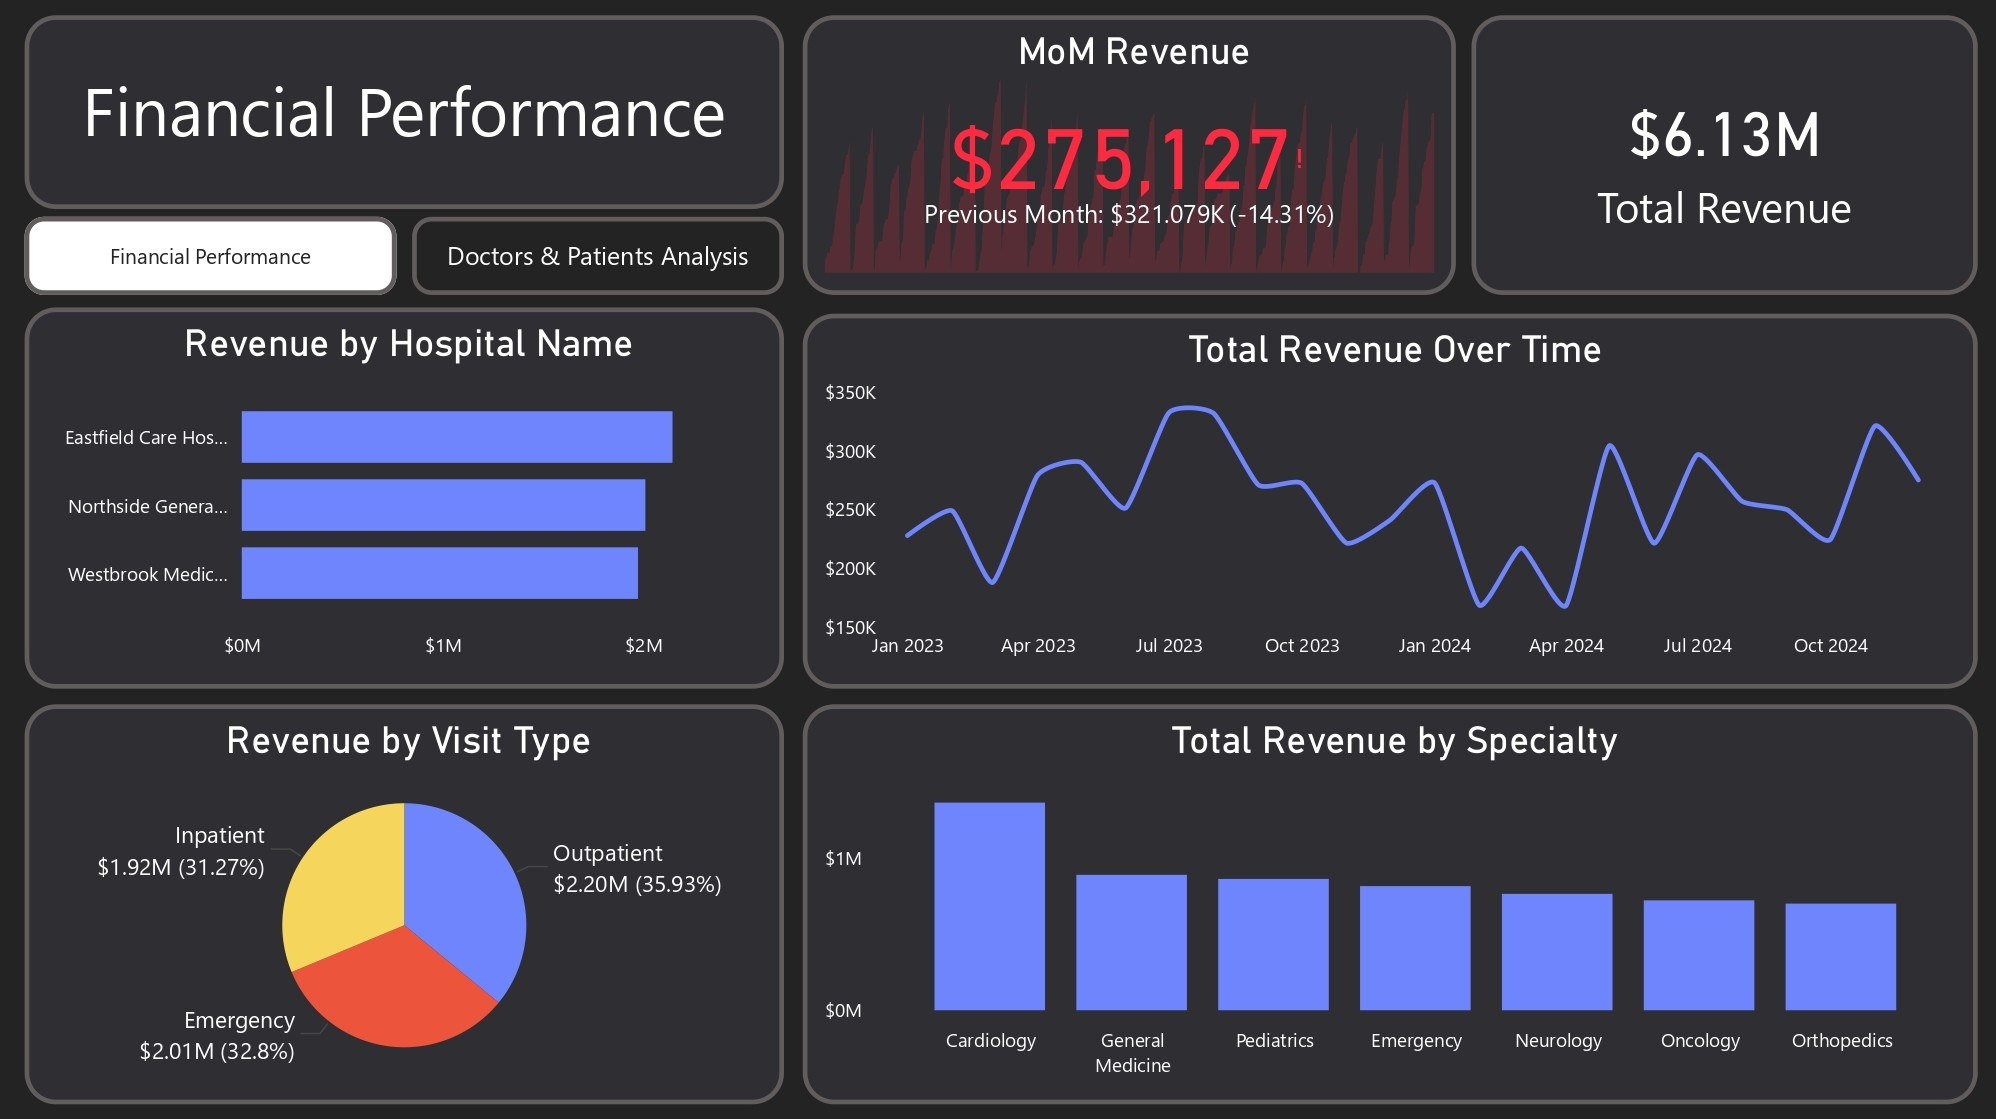

This screenshot's page, from the dashboard's own definition file:
{"tool":"powerbi","page":{"name":"Financial Performance","canvas":[1280,720],"ordinal":0},"visuals":[{"type":"textbox","box":[17.8,12.3,485.8,123.5],"z":0},{"type":"card","fields":{"Values":["Measures Table.Total Revenue"]},"box":[944.1,12.3,323.8,178.4],"z":1000},{"type":"barChart","title":"Revenue by Hospital Name","fields":{"Category":["Hospitals.HospitalName"],"Y":["Measures Table.Total Revenue"]},"box":[17.8,199,485.8,244.3],"z":2000},{"type":"kpi","title":"MoM Revenue","fields":{"Goal":["Measures Table.Previous Month Revenue"],"TrendLine":["Date.Date"],"Indicator":["Measures Table.Current Month Revenue"]},"box":[516,12.3,418.5,178.4],"z":3000},{"type":"pieChart","title":"Revenue by Visit Type","fields":{"Category":["Visits.VisitType"],"Y":["Measures Table.Total Revenue"]},"box":[17.8,452.8,485.8,256.6],"z":4000},{"type":"columnChart","fields":{"Category":["Doctors.Specialty"],"Y":["Measures Table.Total Revenue"]},"box":[516,452.8,752,256.6],"z":5000},{"type":"lineChart","title":"Total Revenue Over Time","fields":{"Y":["Measures Table.Total Revenue"],"Category":["Date.Date.Variation.Date Hierarchy.Year","Date.Date.Variation.Date Hierarchy.Quarter","Date.Date.Variation.Date Hierarchy.Month","Date.Date.Variation.Date Hierarchy.Day"]},"box":[516,203.1,752,240.1],"z":6000},{"type":"pageNavigator","box":[17.8,141.3,485.8,49.4],"z":7000}]}

Visuals, with their boxes in screenshot pixels (x1, y1, x2, y2), scaled from the page's 1280x720 canvas onto the 1996x1119 screenshot:
textbox: detection(28, 19, 785, 211)
card - Measures Table.Total Revenue: detection(1472, 19, 1977, 296)
"Revenue by Hospital Name" barChart: detection(28, 309, 785, 689)
"MoM Revenue" kpi: detection(805, 19, 1457, 296)
"Revenue by Visit Type" pieChart: detection(28, 704, 785, 1103)
columnChart - Doctors.Specialty x Measures Table.Total Revenue: detection(805, 704, 1977, 1103)
"Total Revenue Over Time" lineChart: detection(805, 316, 1977, 689)
pageNavigator: detection(28, 220, 785, 296)
